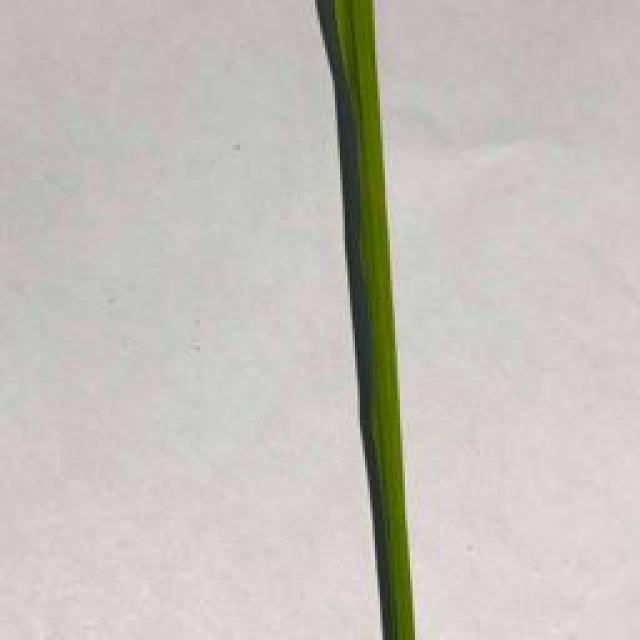Healthy-Plant: (303, 0, 417, 640)
